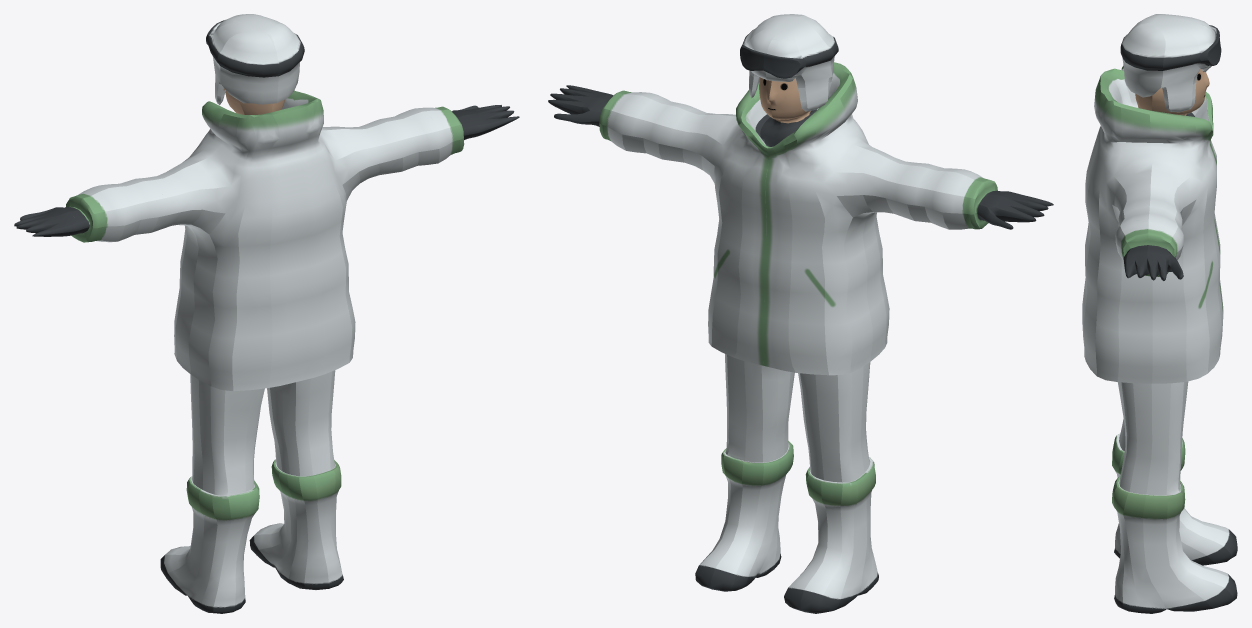
The model's file is player_raw.fbx.
The picture shows the model from 3 angles, left to right: view 1: azimuth 30°, elevation 25°; view 2: azimuth 150°, elevation 25°; view 3: azimuth 270°, elevation 25°; orthographic projection.
Parts seen in each view (by area): view 1: Cube; view 2: Cube; view 3: Cube.
Part boxes in pixels (x1,y1,x2,y2): Cube: (14,14,519,613); Cube: (548,14,1053,613); Cube: (1082,14,1237,613).
Bounding box in the file's own units: 559 × 607 × 153.
Materials: 1 (1 with a texture image).
